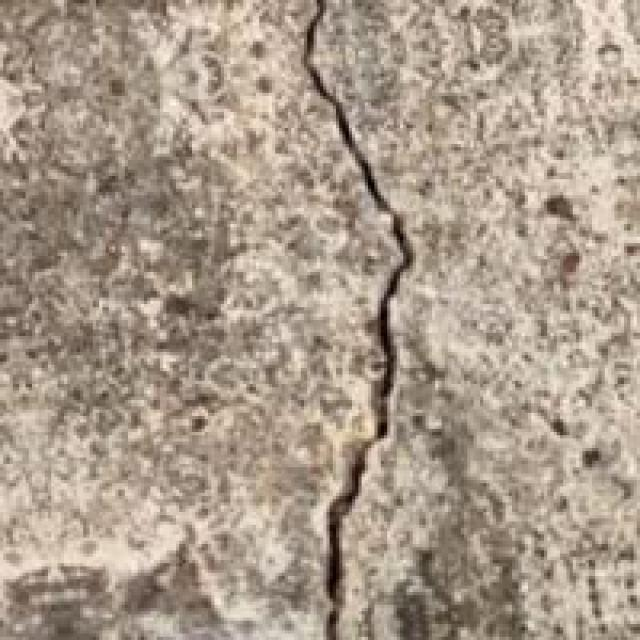crack: (249, 0, 486, 637)
